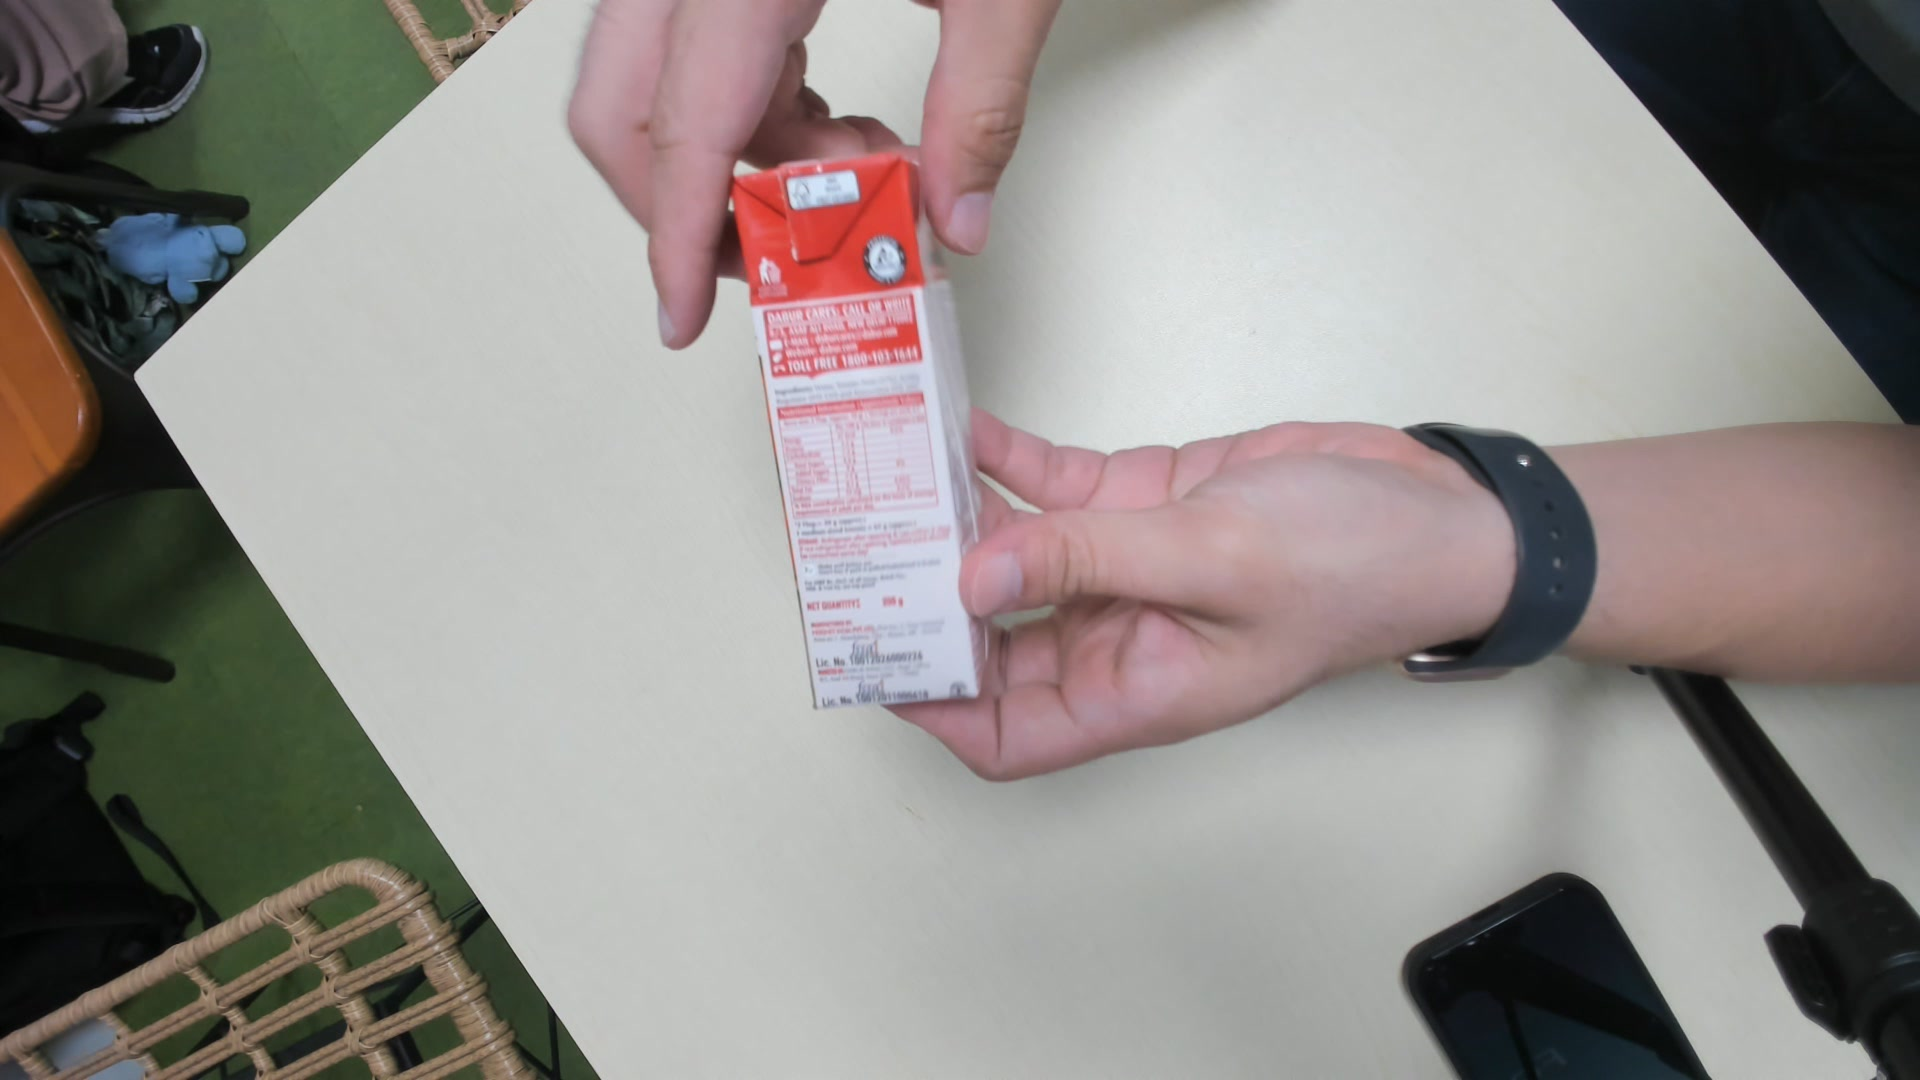OtherSauceDressing_200-299g_NonHalal_NonHealthy: (715, 150, 998, 719)
